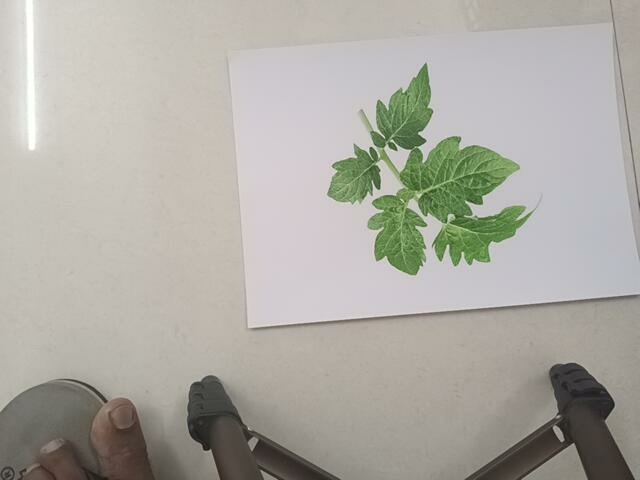Tomamto_Leaf_Healthy: (322, 64, 552, 289)
